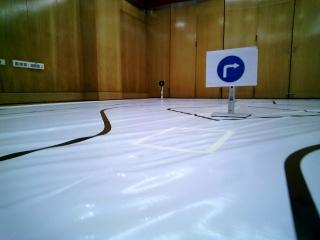right: (207, 52, 259, 86)
